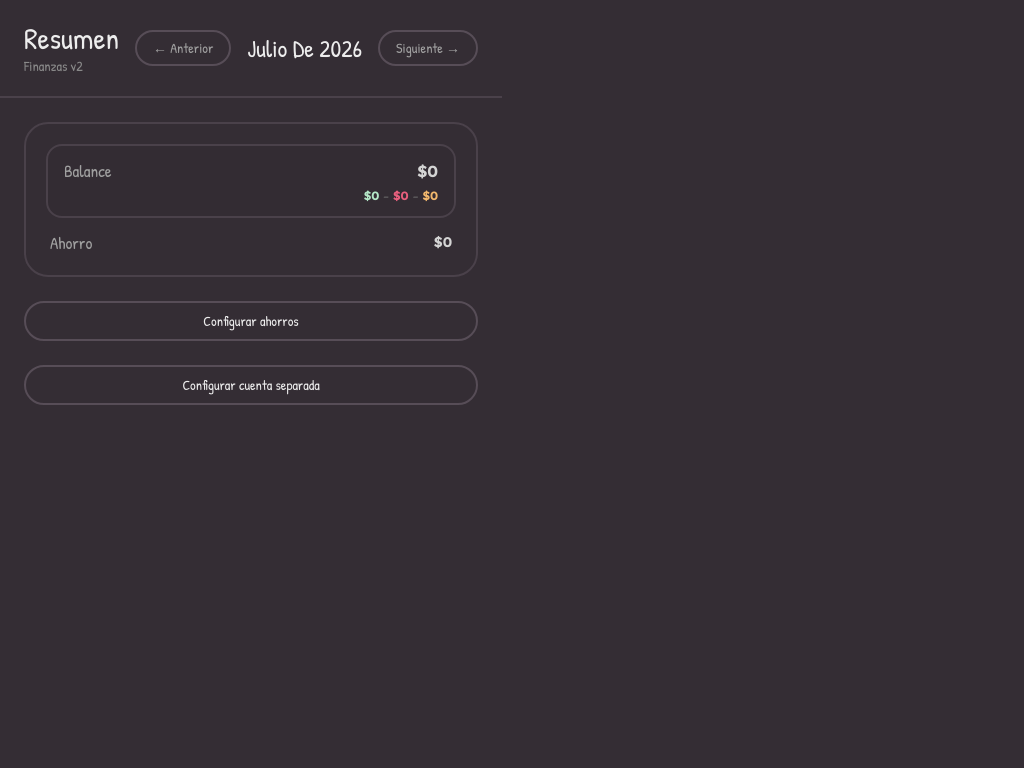
Test: FinanceV2Screen — savings fund wiring › opening the fund config modal disables the shared MonthNav
Click the button "Configurar ahorros": (251,321) [24,301,478,341]
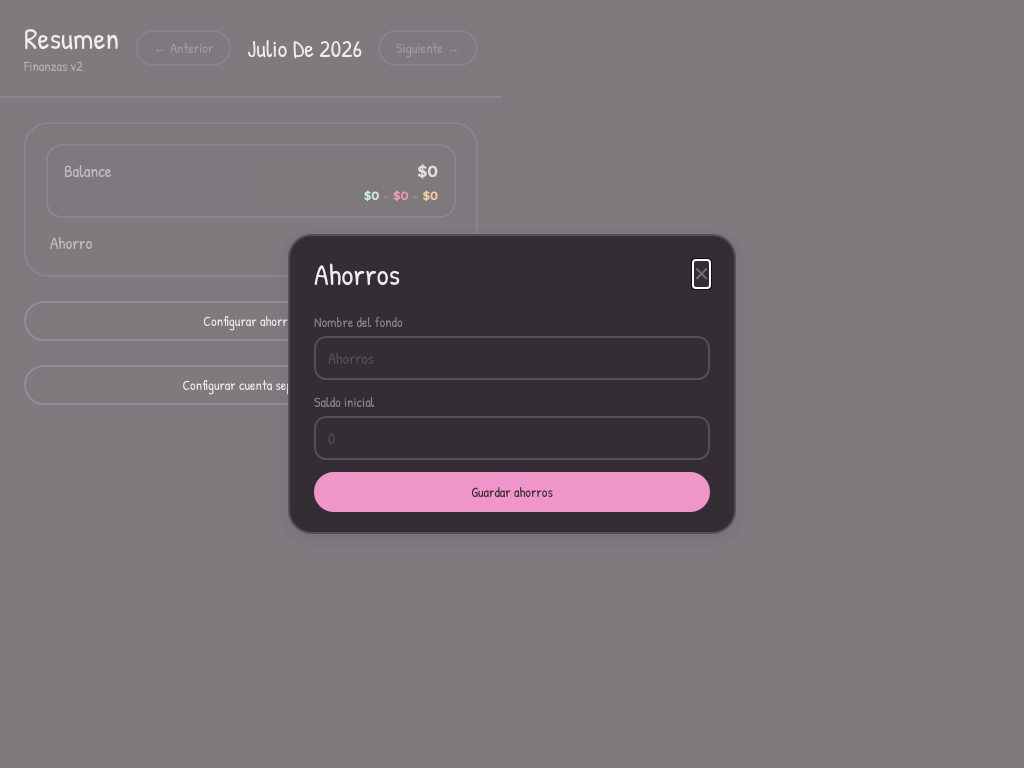
Result: the button "Siguiente →" is disabled at [378,30,478,66]
